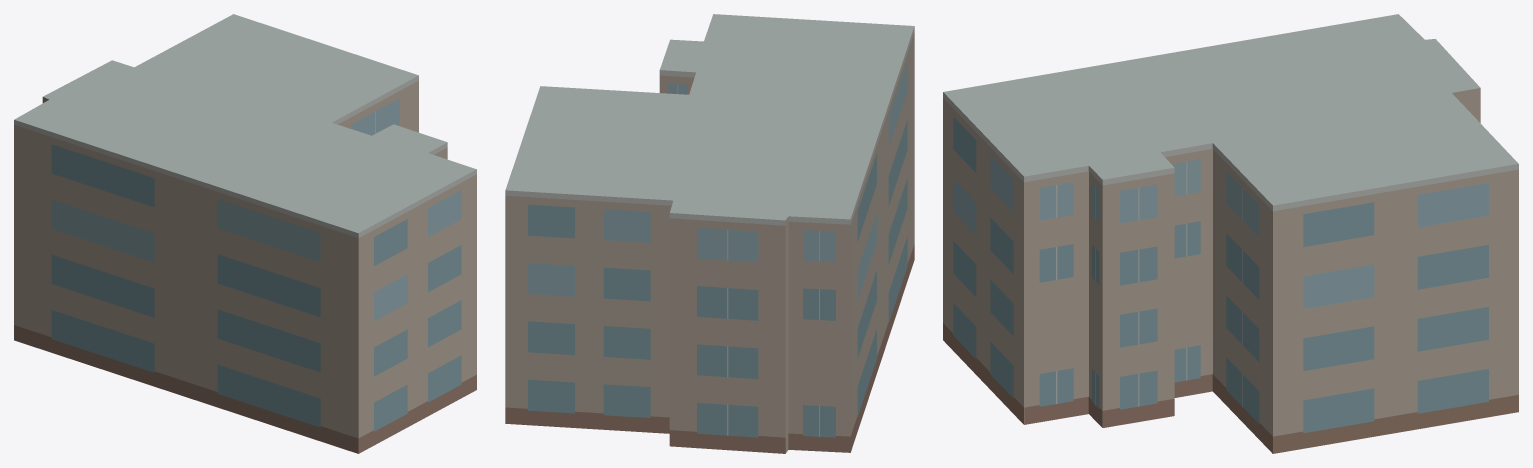
The model's file is survey-upis-32549045.glb.
3 renders of one model, left to right at view 1: azimuth 30°, elevation 25°; view 2: azimuth 150°, elevation 25°; view 3: azimuth 270°, elevation 25°, orthographic. The views are drawn at different scales.
Visible parts, largest first — view 1: survey-upis-32549045.tmp; view 2: survey-upis-32549045.tmp; view 3: survey-upis-32549045.tmp.
Boxes of the visible parts, <box> form: survey-upis-32549045.tmp: <box>14,14,476,453</box>; survey-upis-32549045.tmp: <box>505,14,914,453</box>; survey-upis-32549045.tmp: <box>943,14,1518,453</box>.
Bounding box in the file's own units: 17.73 × 10.7 × 22.5.
